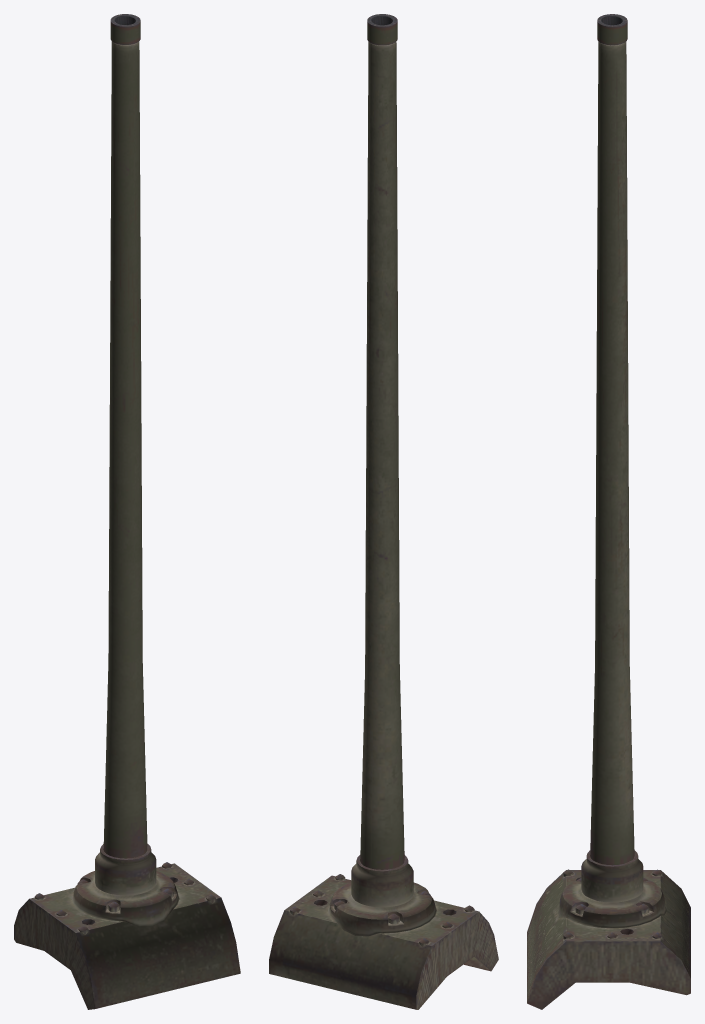
File: Gun_01.glb
3 renders of one model, left to right at view 1: azimuth 30°, elevation 25°; view 2: azimuth 150°, elevation 25°; view 3: azimuth 270°, elevation 25°, orthographic.
Parts seen in each view (by area): view 1: set_0_group_0; view 2: set_0_group_0; view 3: set_0_group_0.
Part boxes in pixels (x1,y1,x2,y2): set_0_group_0: [14, 14, 240, 1009]; set_0_group_0: [269, 14, 498, 1009]; set_0_group_0: [527, 14, 690, 1009].
Size of the model in its own units: 0.6891 by 4.28 by 0.6673.
Materials: 1 (1 with a texture image).
